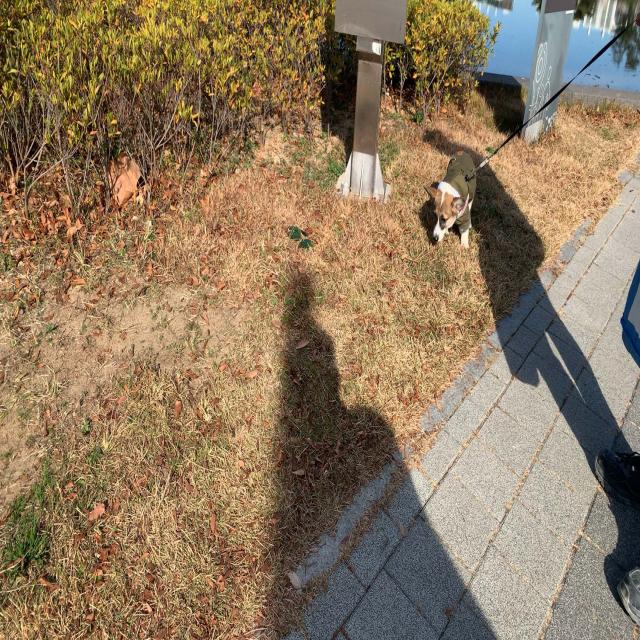Dog: (424, 149, 477, 251)
